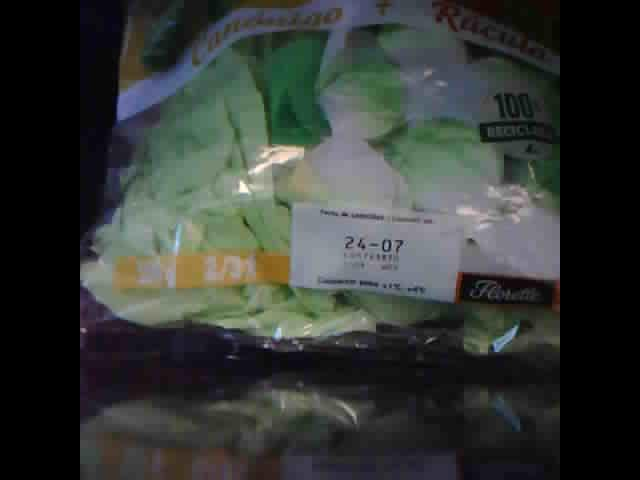florette: (81, 3, 557, 357)
